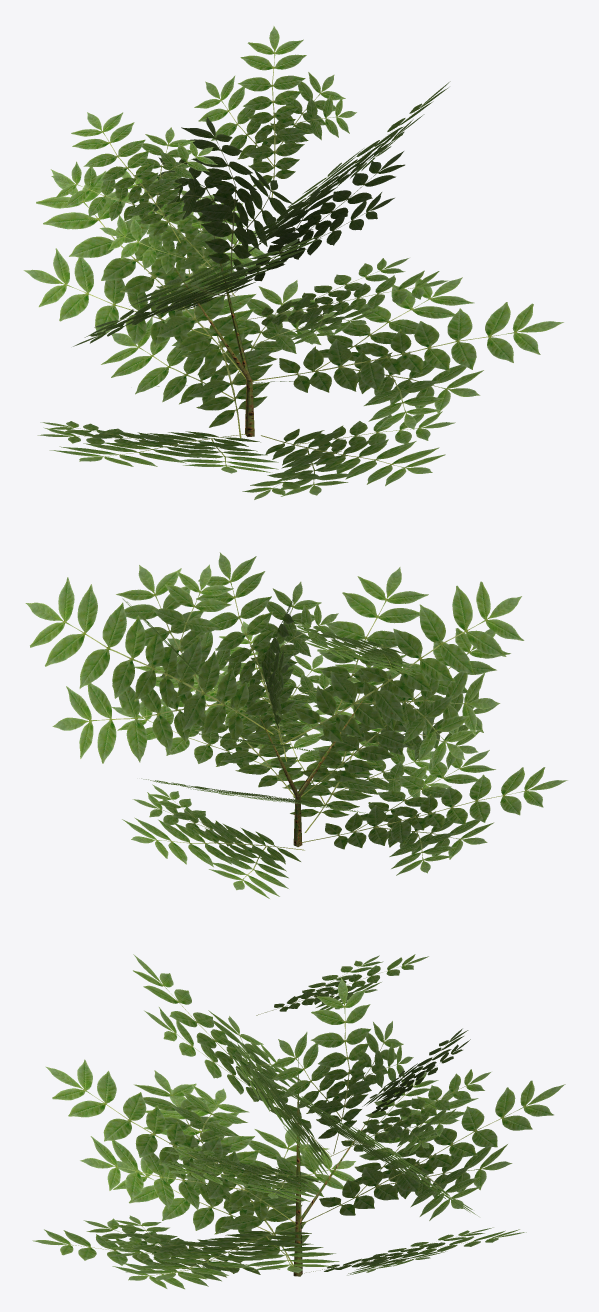
The model's file is bush02_lod02.FBX.
The picture shows the model from 3 angles, top to bottom: view 1: azimuth 30°, elevation 25°; view 2: azimuth 150°, elevation 25°; view 3: azimuth 270°, elevation 25°; orthographic projection. The views are drawn at different scales.
Parts seen in each view (by area): view 1: bush02_lod02; view 2: bush02_lod02; view 3: bush02_lod02.
Part boxes in pixels (left/top/right/bottom): bush02_lod02: left=23, top=26, right=563, bottom=499; bush02_lod02: left=25, top=552, right=567, bottom=898; bush02_lod02: left=32, top=954, right=565, bottom=1289.
Bounding box in the file's own units: 232 × 139 × 230.
1 material, 1 textured.
